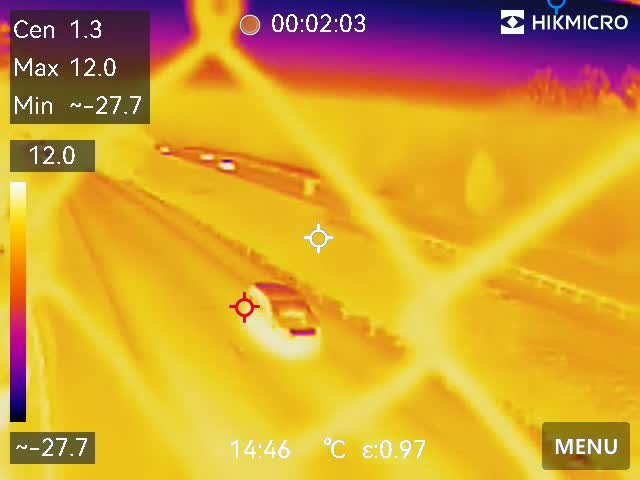largeCar: (242, 275, 326, 353)
